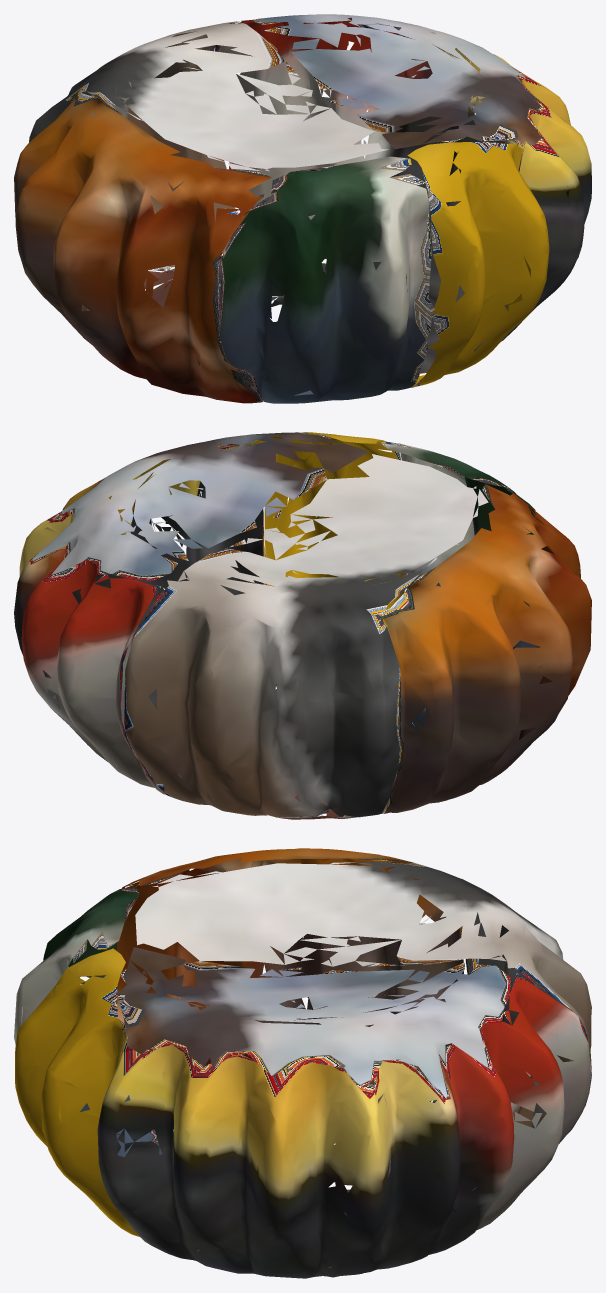
Rendered from metall-kronkorken.glb.
The picture shows the model from 3 angles, top to bottom: view 1: azimuth 30°, elevation 25°; view 2: azimuth 150°, elevation 25°; view 3: azimuth 270°, elevation 25°; orthographic projection. The views are drawn at different scales.
Parts seen in each view (by area): view 1: metall-kronkorken; view 2: metall-kronkorken; view 3: metall-kronkorken.
Boxes of the visible parts, x1=… form: metall-kronkorken: x1=14, y1=14, x2=591, y2=403; metall-kronkorken: x1=14, y1=432, x2=591, y2=819; metall-kronkorken: x1=14, y1=848, x2=591, y2=1278.
Size of the model in its own units: 0.1244 by 0.0547 by 0.114.
Materials: 1 (1 with a texture image).
